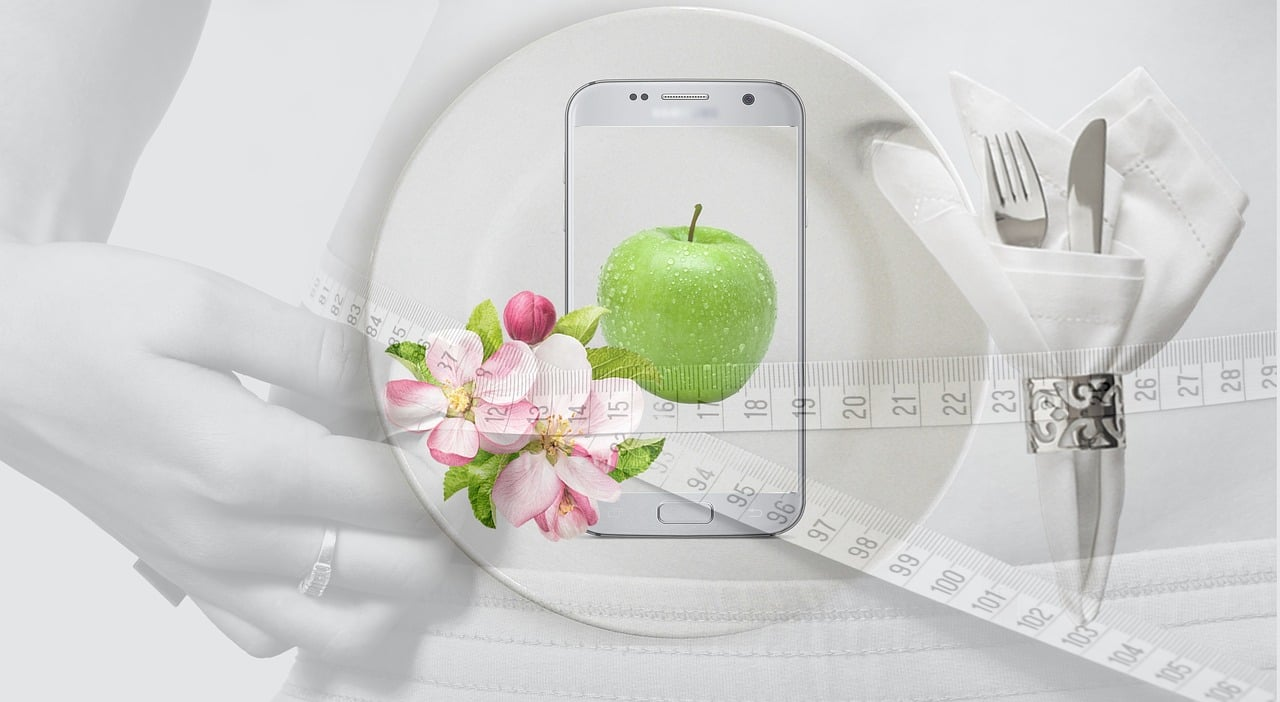knife: (1053, 117, 1115, 255)
